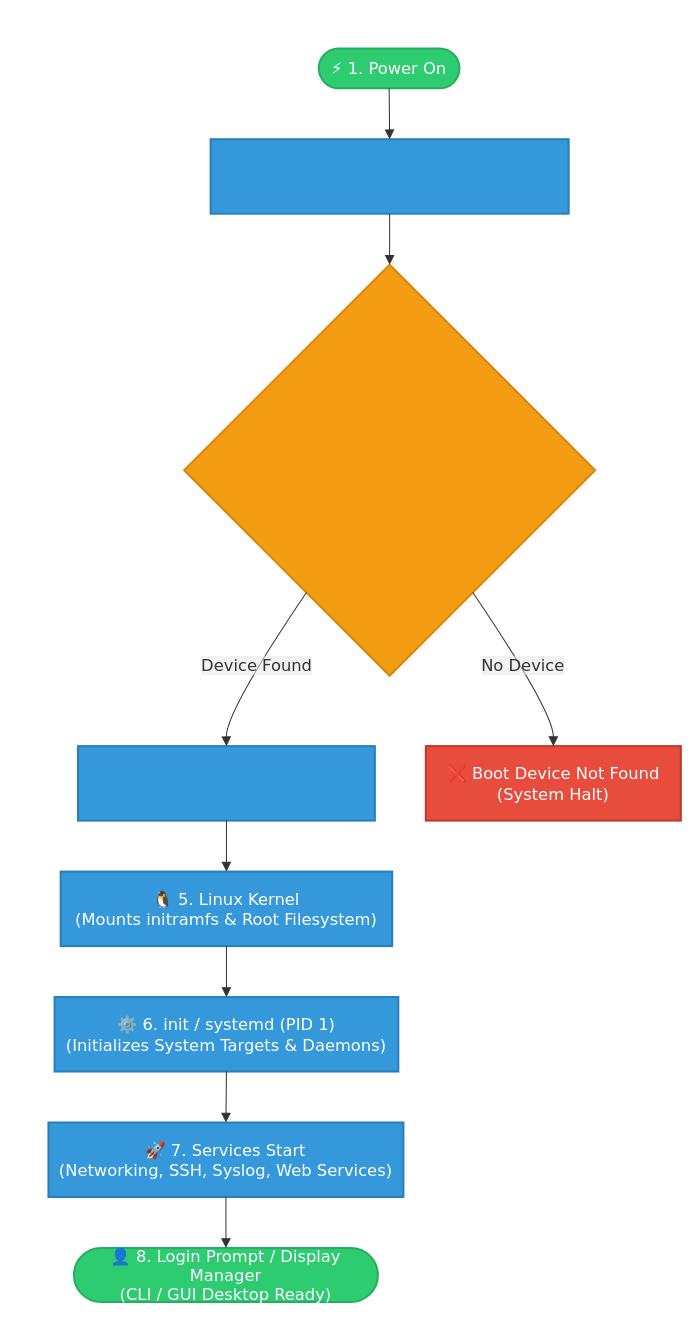
Image size: 699x1322. Some labels were removed from this diagram. Each missing label, with the box of its shape:
⚙️ 2. BIOS / UEFI Initialization (Executes POST & Hardware Diagnostics): (209, 138, 569, 214)
📂 4. Boot Loader (GRUB 2) (Loads Boot Menu & OS Options): (76, 745, 375, 821)
🔍 3. Boot Device Detection (Checks SSD / HDD / USB / NVMe): (183, 263, 596, 676)
